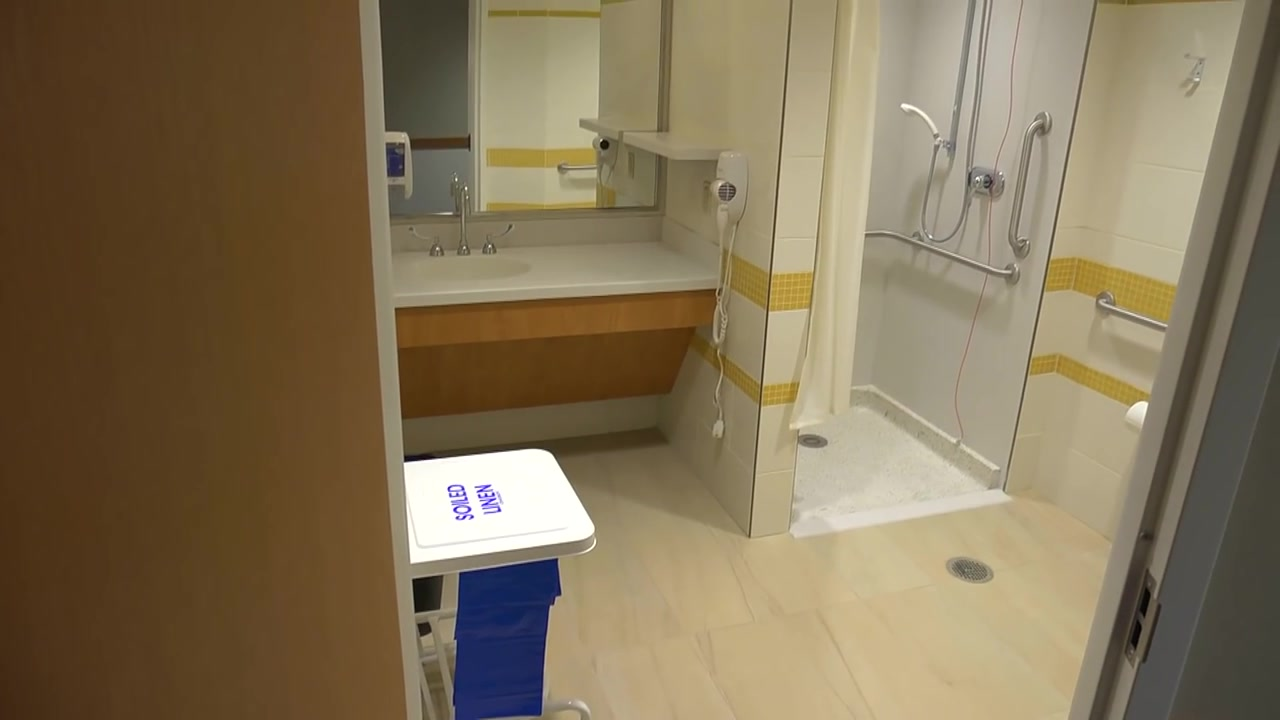counter: (387, 258, 733, 334)
countertop: (390, 240, 723, 300)
curtain: (787, 1, 881, 478)
dispenser: (382, 129, 414, 207)
faucet: (450, 181, 477, 255), (408, 221, 445, 257), (482, 222, 515, 255)
restroom_assist_bar: (856, 225, 1022, 284), (1009, 112, 1053, 268), (1091, 277, 1181, 342)
sink: (398, 255, 541, 294)
waste_bin: (401, 449, 596, 720)
